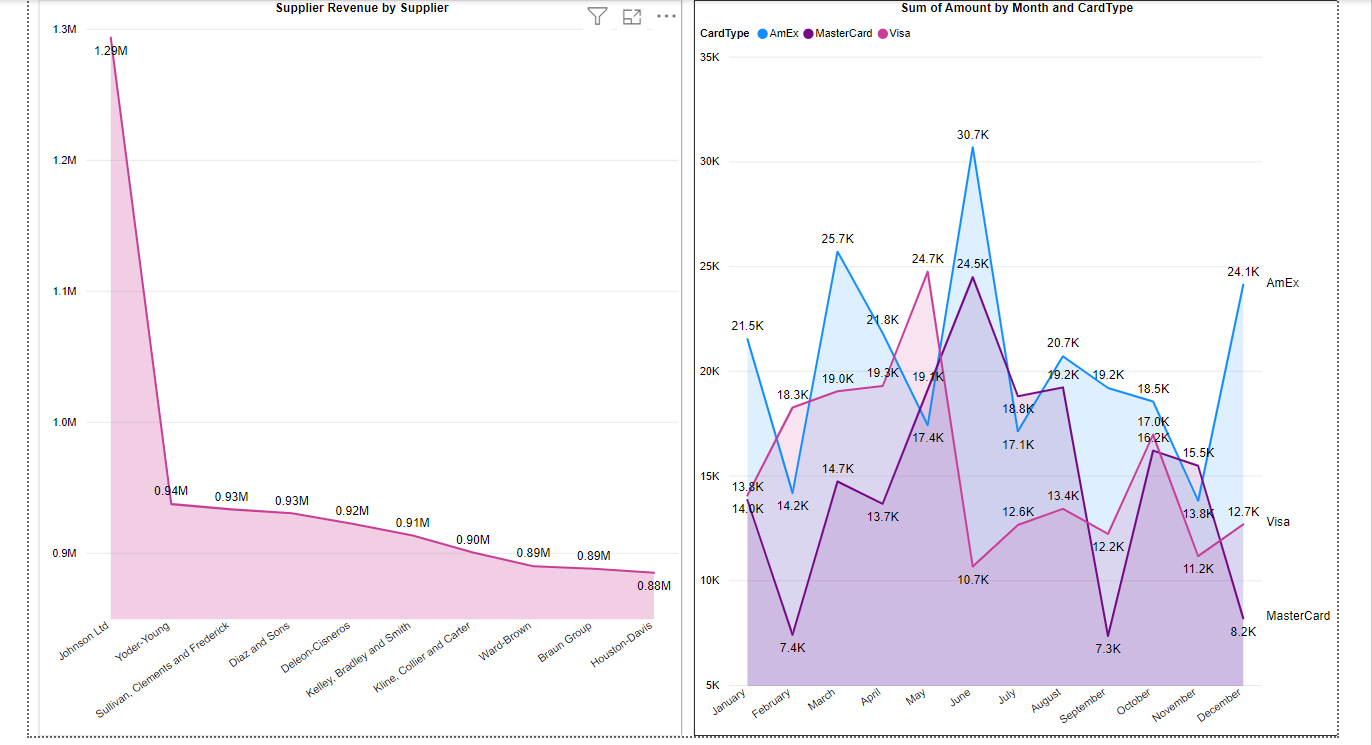

The page's visual inventory and layout, read from the dashboard file:
{"tool":"powerbi","page":{"name":"Page 3","canvas":[1280,720],"ordinal":2},"visuals":[{"type":"areaChart","fields":{"Category":["ecommerce_data_products.Supplier"],"Y":["ecommerce_data_customers.Supplier Revenue"]},"box":[9.8,0,629.8,720.2],"z":0},{"type":"lineChart","fields":{"Y":["Sum(ecommerce_data_payments.Amount)"],"Category":["ecommerce_data_payments.PaymentDate.Variation.Date Hierarchy.Month"],"Series":["ecommerce_data_payments.CardType"]},"box":[650,0,630,720],"z":1000}]}

Visuals, with their boxes on the page's 1280x720 design canvas (x1, y1, x2, y2). These are canvas units, not pixel positions in the 1372x745 screenshot, which may show the page scaled, cropped or inside an application window:
areaChart - ecommerce_data_products.Supplier x ecommerce_data_customers.Supplier Revenue: {"left": 10, "top": 0, "right": 640, "bottom": 720}
lineChart - Sum(ecommerce_data_payments.Amount) x ecommerce_data_payments.PaymentDate.Variation.Date Hierarchy.Month: {"left": 650, "top": 0, "right": 1280, "bottom": 720}
